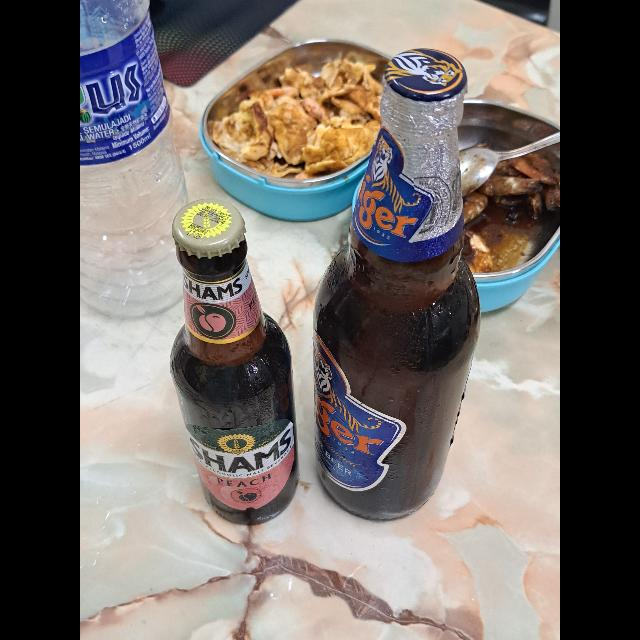garrafa de vidro: (316, 49, 480, 525), (168, 201, 300, 525)
garrafa plástica: (80, 1, 196, 320)
